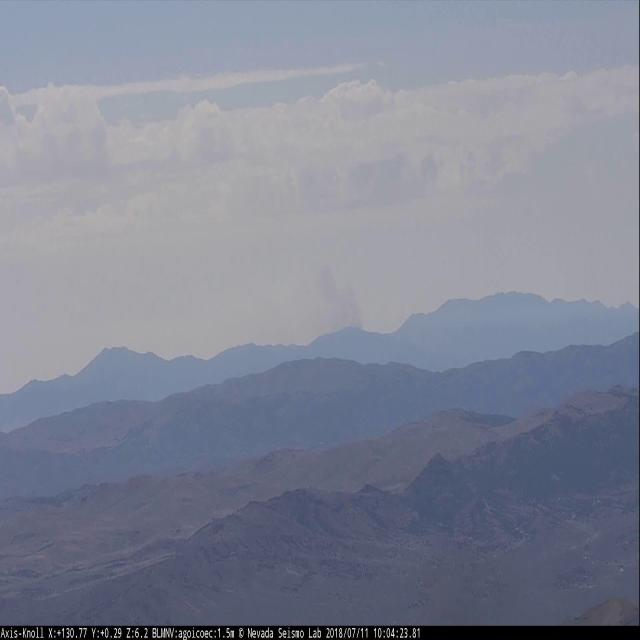smoke: (316, 258, 363, 333)
